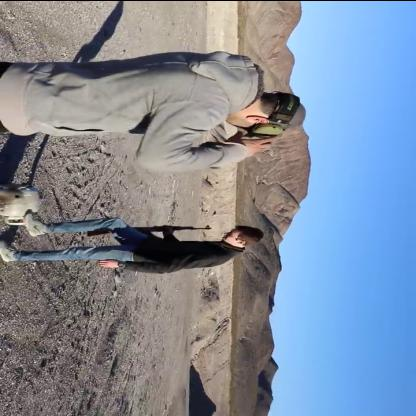long weapon: (85, 218, 223, 242)
